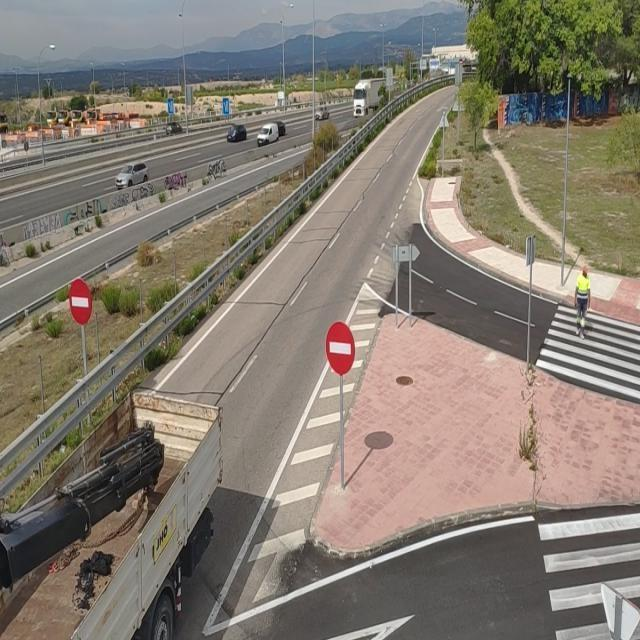Car: (114, 161, 150, 189), (227, 125, 247, 142), (315, 105, 330, 120), (165, 122, 182, 135)
Truck: (0, 390, 221, 640), (352, 78, 388, 119), (85, 106, 125, 122), (70, 108, 94, 125), (56, 108, 74, 126), (46, 110, 60, 130), (0, 112, 9, 132)
Van: (257, 123, 279, 147)
